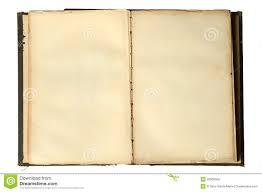Paper: (9, 8, 262, 170)
